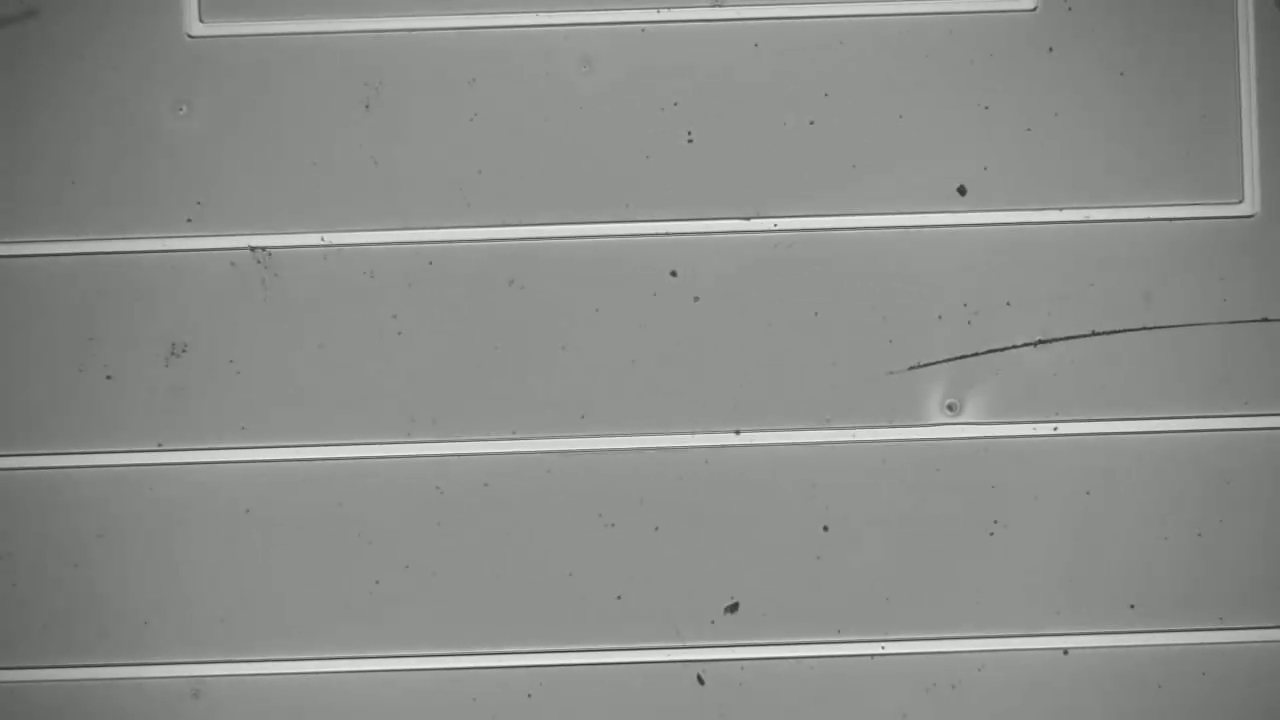scratch: (890, 290, 1280, 369)
